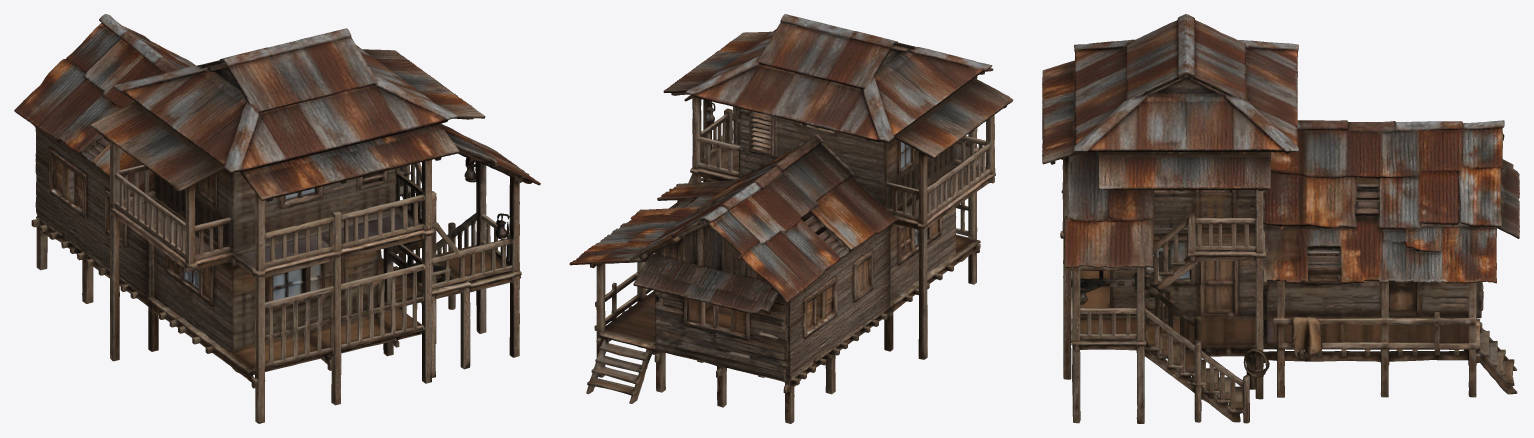
File: rusty_roof_wooden_house_3d_model_free.glb
3 renders of one model, left to right at view 1: azimuth 30°, elevation 25°; view 2: azimuth 150°, elevation 25°; view 3: azimuth 270°, elevation 25°, orthographic. The views are drawn at different scales.
Parts seen in each view (by area): view 1: tripo_node_d57dc95e-f972-4688-a9d3-7e57387f7c02_0; view 2: tripo_node_d57dc95e-f972-4688-a9d3-7e57387f7c02_0; view 3: tripo_node_d57dc95e-f972-4688-a9d3-7e57387f7c02_0.
Boxes of the visible parts, x1,y1,x2,y2 form: tripo_node_d57dc95e-f972-4688-a9d3-7e57387f7c02_0: [14, 14, 540, 423]; tripo_node_d57dc95e-f972-4688-a9d3-7e57387f7c02_0: [569, 14, 1013, 423]; tripo_node_d57dc95e-f972-4688-a9d3-7e57387f7c02_0: [1042, 14, 1519, 423].
Size of the model in its own units: 0.7955 by 0.6926 by 1.
Materials: 1 (1 with a texture image).
